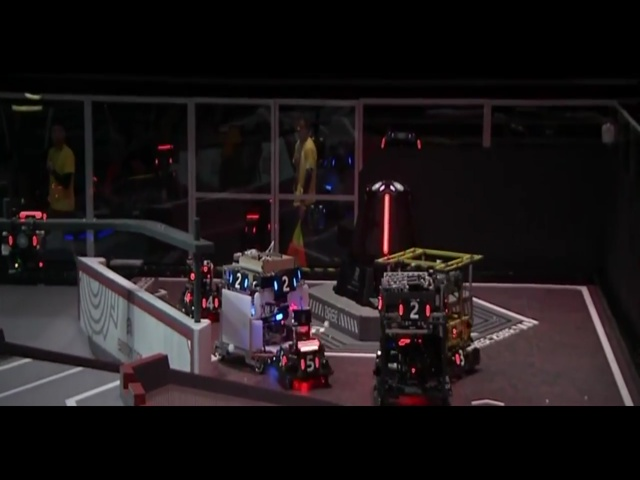plate: (368, 292, 422, 319), (269, 192, 309, 213), (312, 324, 332, 361), (330, 276, 345, 312), (271, 95, 293, 116), (352, 155, 372, 178), (302, 95, 318, 113), (241, 180, 254, 201), (377, 153, 389, 169)
